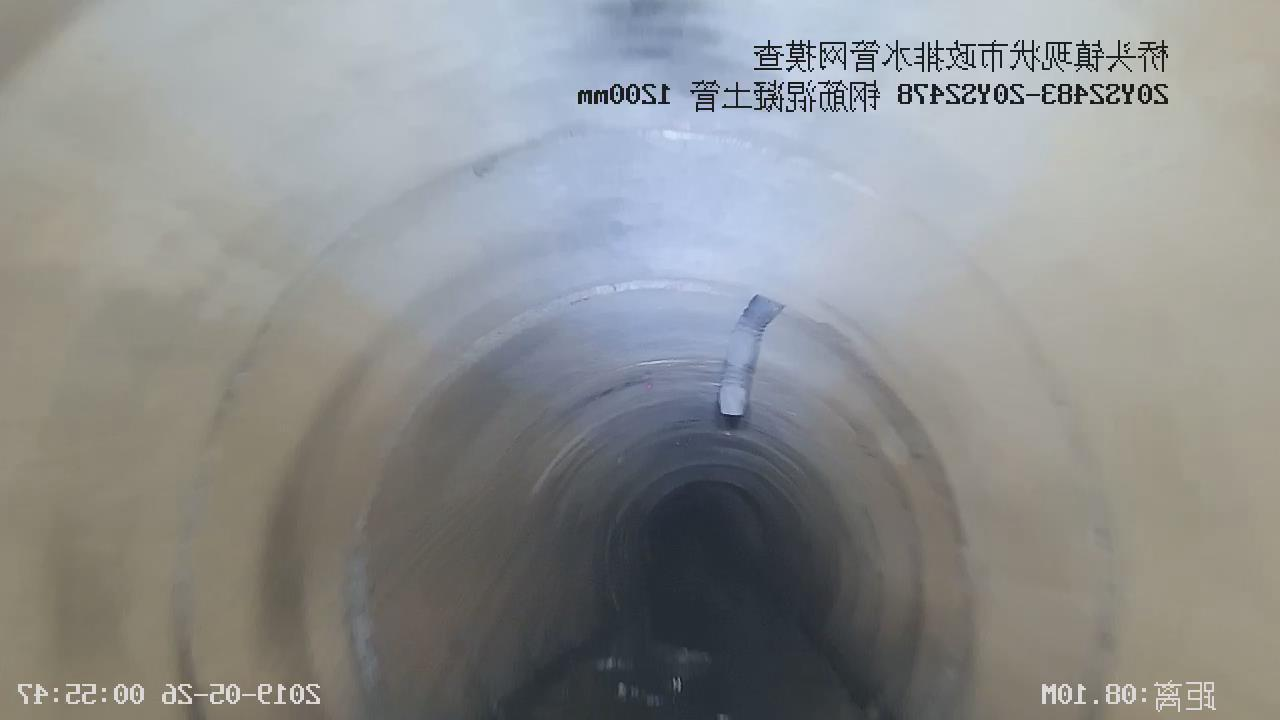YWCR: (718, 294, 784, 429)
